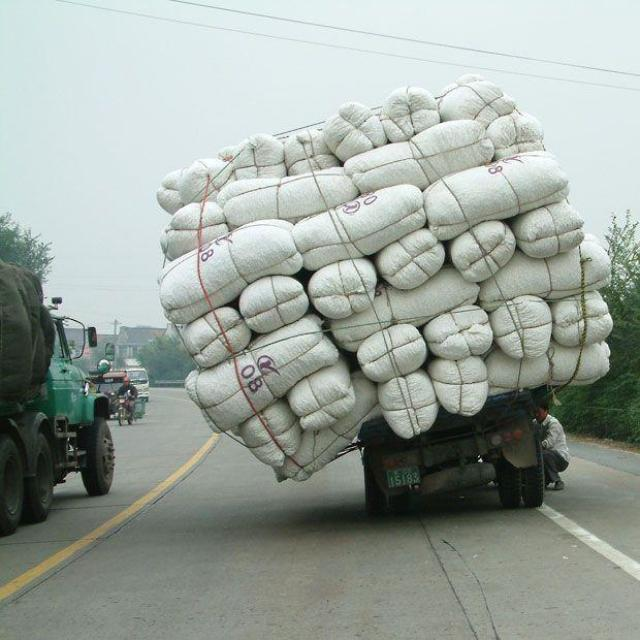covered: (0, 230, 72, 459)
uncovered: (146, 66, 630, 482)
